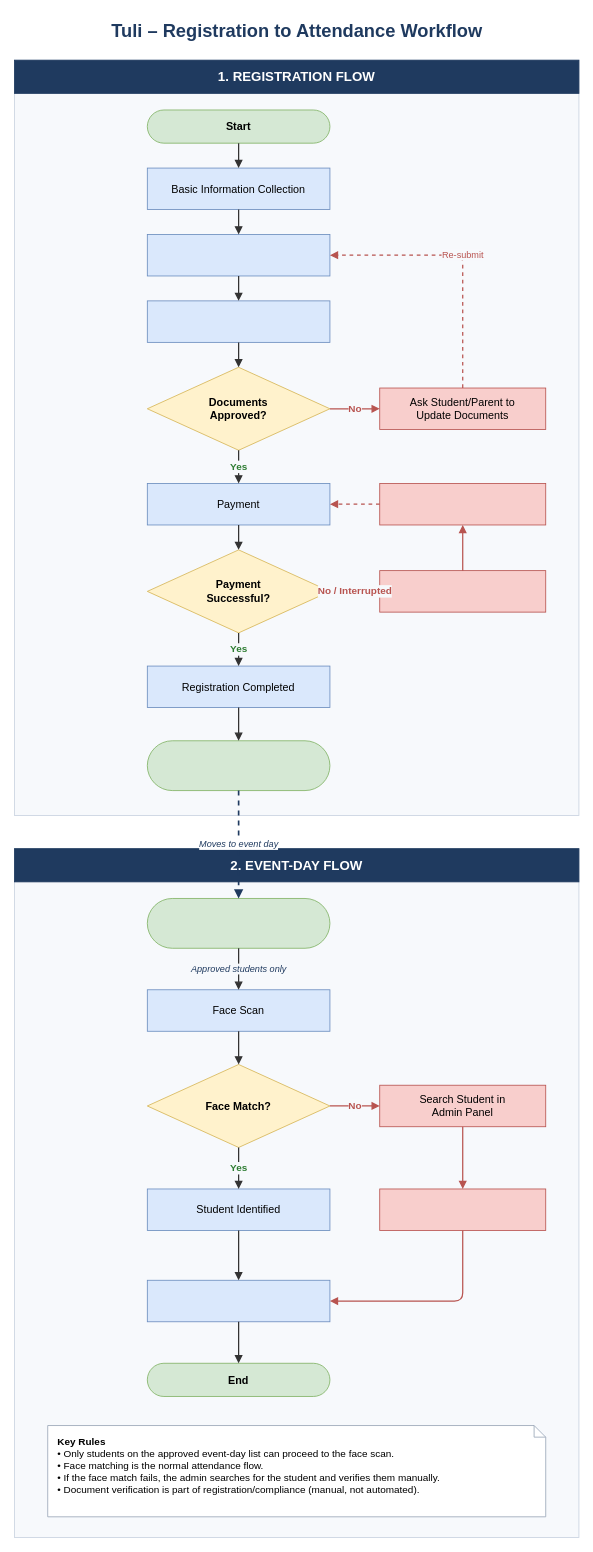
This 593x1552 diagram has some shape labels left out. Each missing label, with the centre of its shape:
"Approved Event-Day Student List" belongs at point 238,923.
"Document Collection" belongs at point 238,255.
"Document Verification" belongs at point 238,321.
"Manual Verification" belongs at point 462,1209.
"Mark Present" belongs at point 238,1300.
"Resume Registration Later" belongs at point 462,504.
"Save as Draft" belongs at point 462,591.
"Student Added to Approved Event-Day List" belongs at point 238,765.
